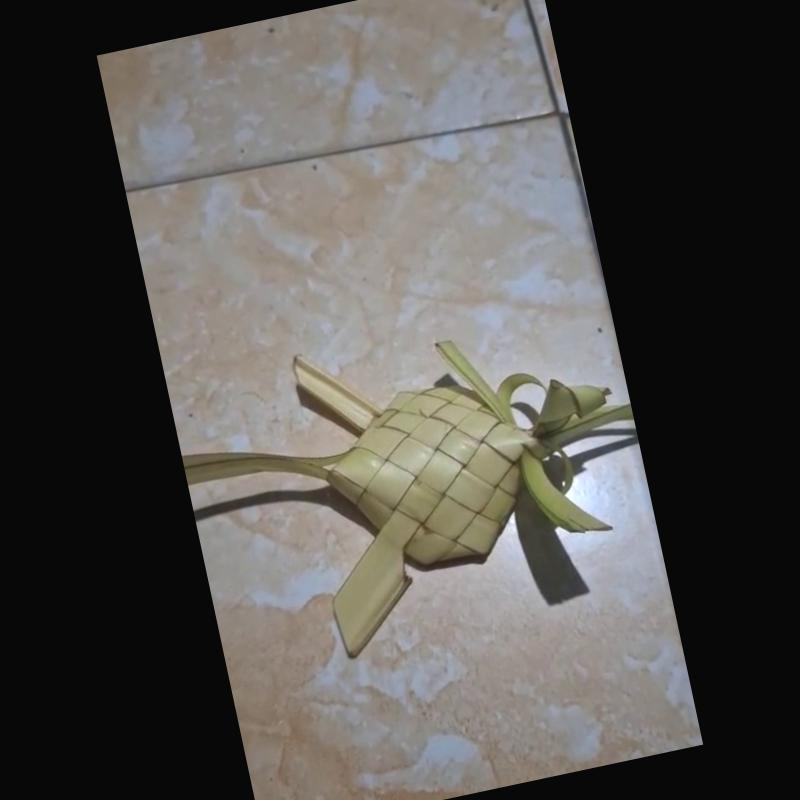Tipat Dampulan: (179, 337, 620, 663)
